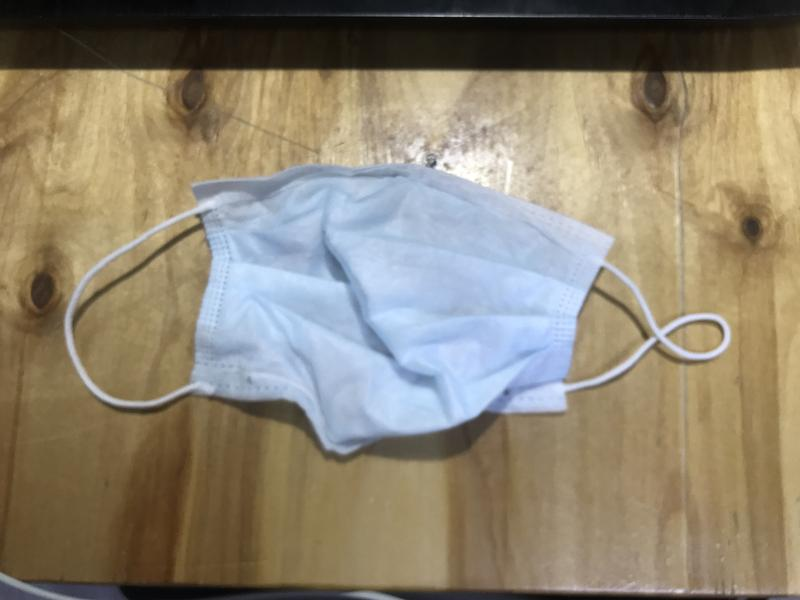medical_mask: (63, 166, 730, 455)
